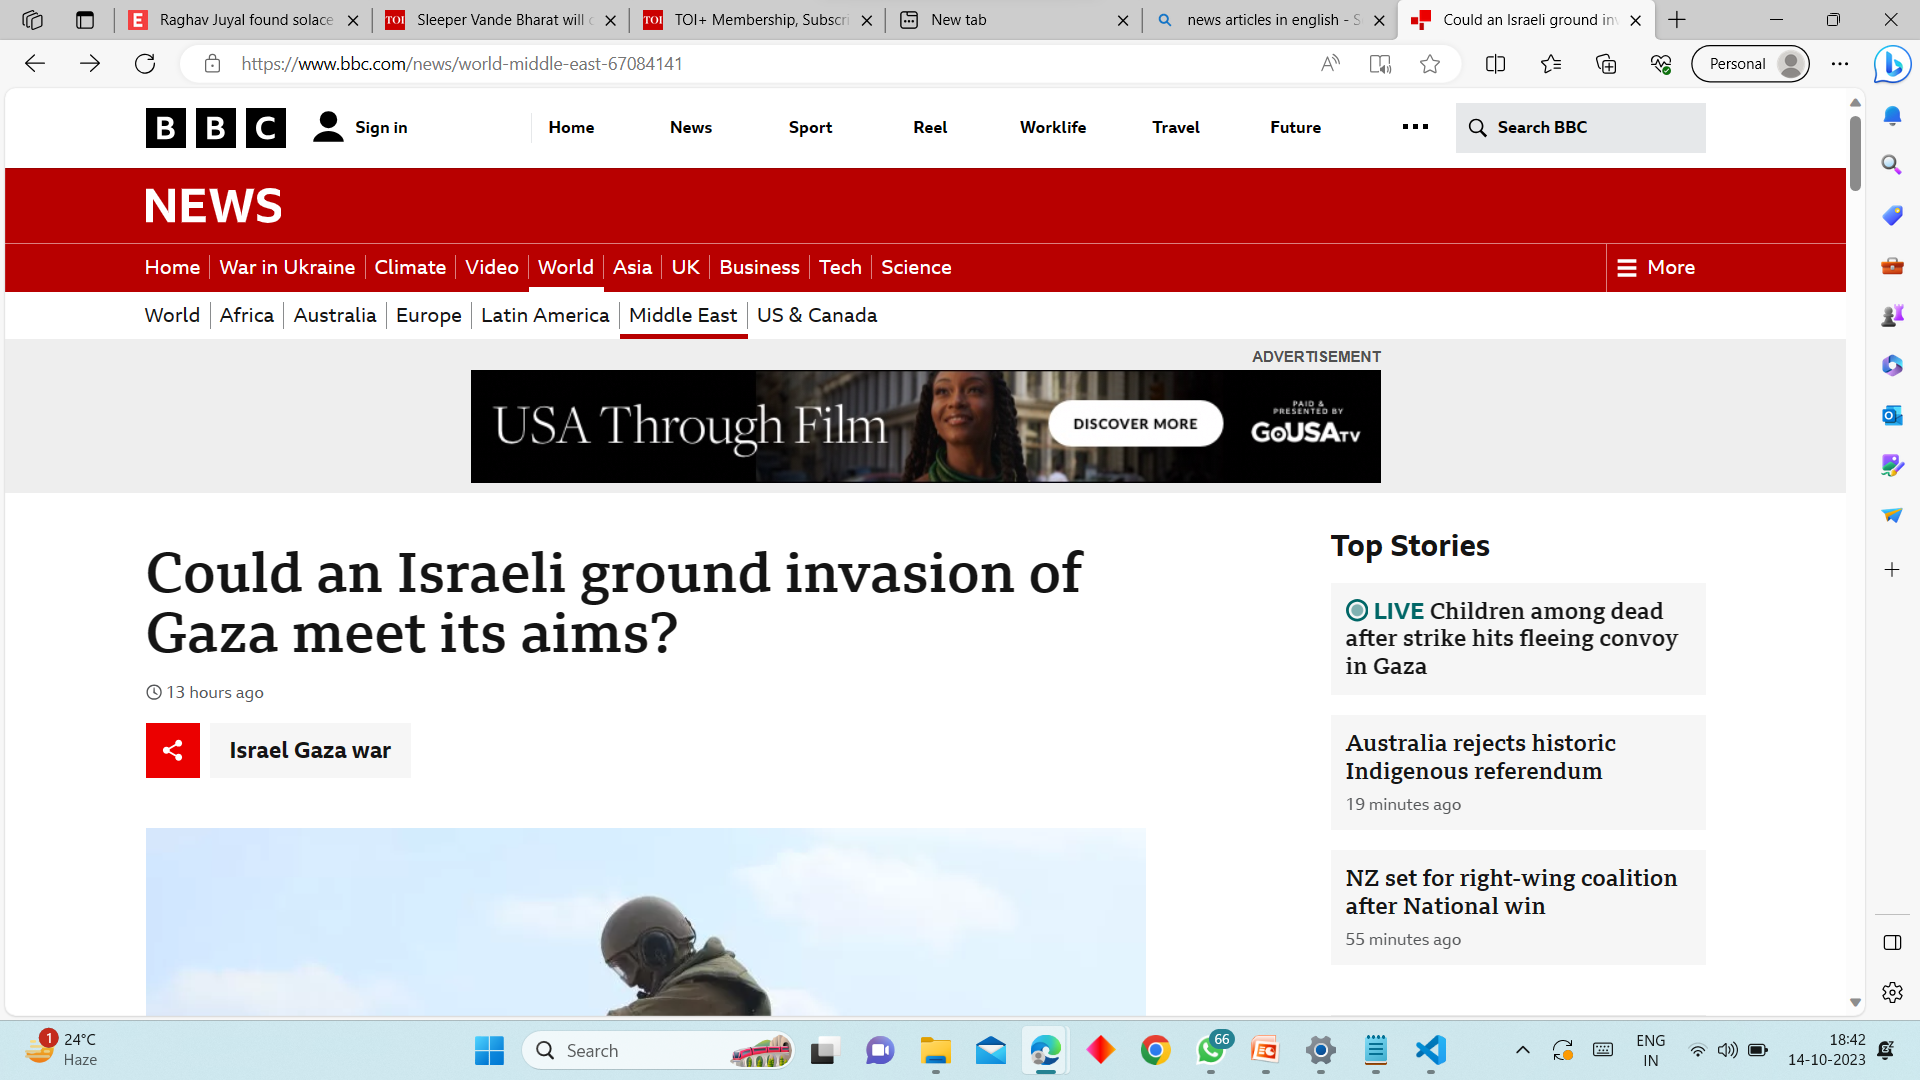Image: (150, 832, 1154, 1022), (463, 364, 1393, 485), (152, 96, 290, 150), (141, 727, 203, 771), (311, 107, 347, 154)
Paragraph: (135, 521, 1112, 671), (1346, 713, 1679, 816), (1340, 591, 1671, 671), (1337, 858, 1677, 932), (1449, 100, 1708, 152), (1321, 521, 1527, 568), (136, 179, 311, 231), (231, 731, 414, 775), (212, 237, 364, 286), (633, 295, 745, 342), (716, 247, 812, 299), (1000, 103, 1096, 148), (1639, 239, 1708, 298), (1263, 100, 1337, 150), (762, 302, 874, 331), (376, 241, 447, 286), (148, 684, 289, 707), (874, 248, 964, 282), (903, 107, 973, 150), (1138, 100, 1205, 145), (537, 241, 597, 290), (481, 302, 611, 324), (293, 299, 376, 334), (467, 241, 521, 293), (671, 100, 727, 148), (351, 107, 418, 145), (812, 241, 874, 280), (150, 248, 199, 295), (138, 298, 203, 331), (787, 109, 848, 144), (222, 295, 273, 334), (398, 306, 465, 334), (666, 244, 704, 289), (611, 247, 650, 284), (543, 109, 592, 136)
